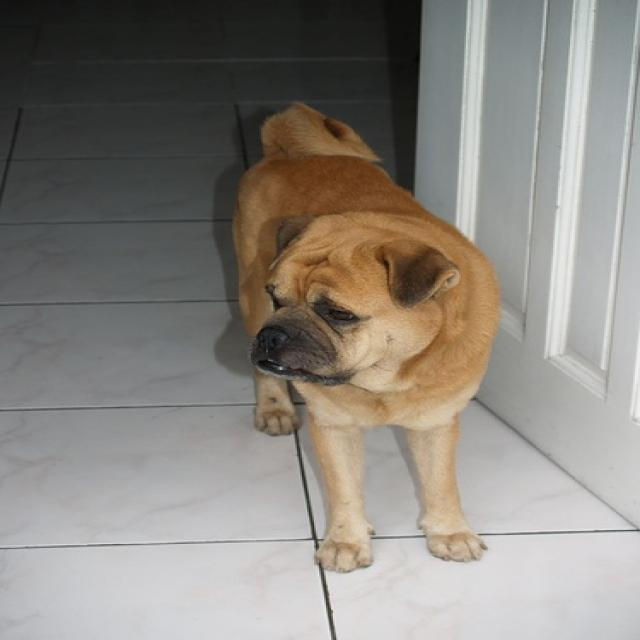dog: (222, 100, 500, 575)
